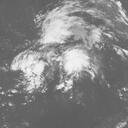cyclone: (57, 46, 93, 94)
